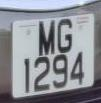1: (20, 56, 33, 98)
2: (30, 55, 53, 93)
4: (69, 50, 87, 90)
9: (50, 52, 71, 91)
G: (55, 15, 74, 54)
M: (36, 19, 58, 56)
